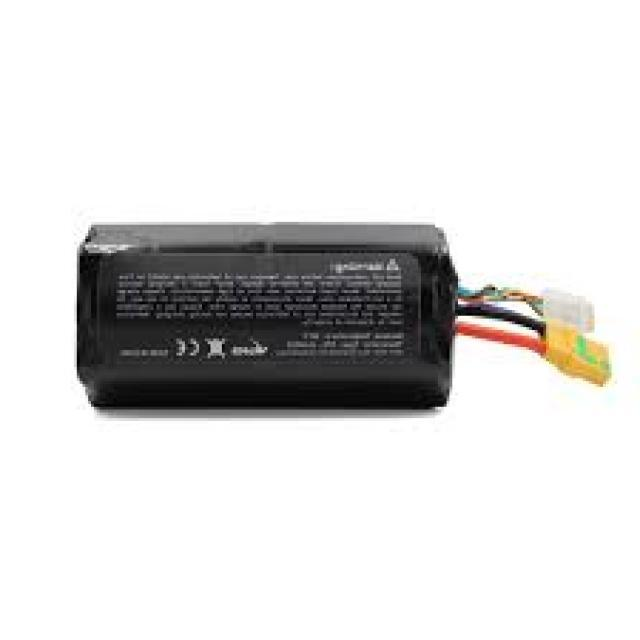battery: (72, 223, 602, 427)
